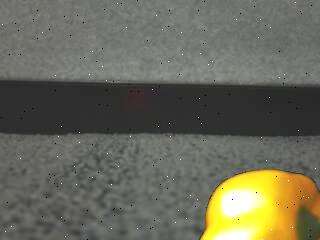Capsicum: (194, 169, 320, 240)
